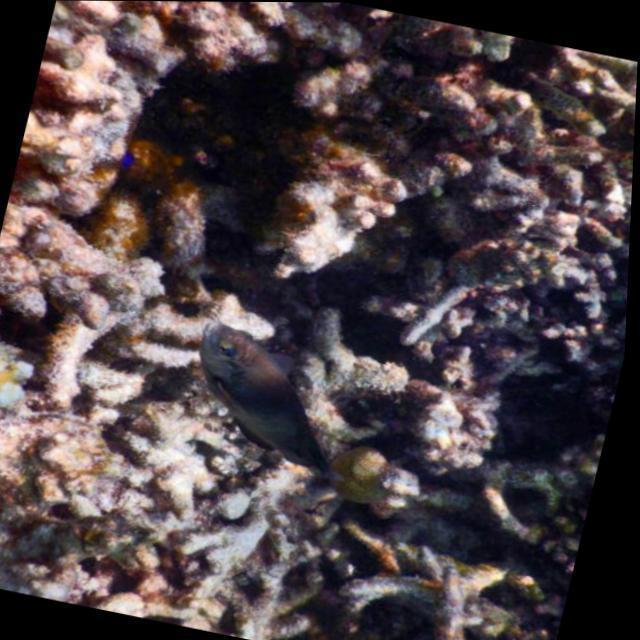Dead Coral: (0, 255, 375, 640), (382, 24, 640, 385), (198, 2, 445, 302), (374, 499, 588, 640)
